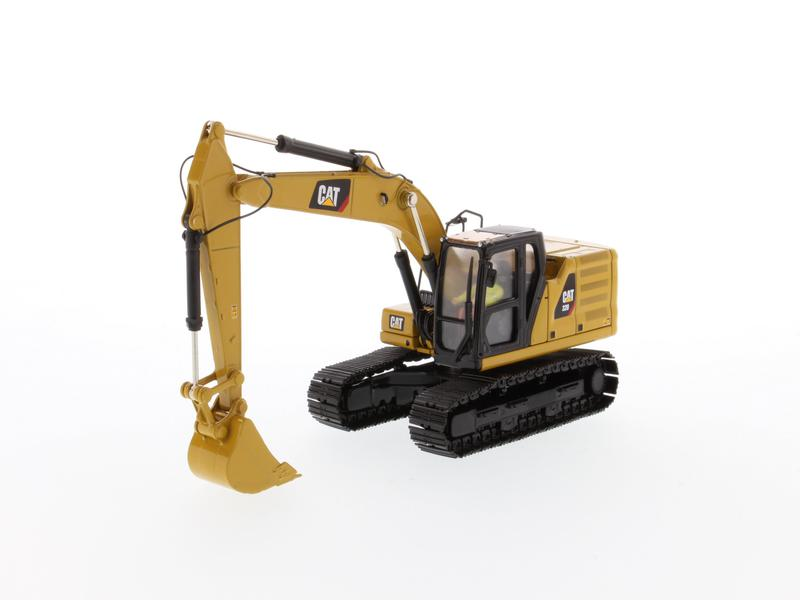shovel: (172, 101, 628, 494)
